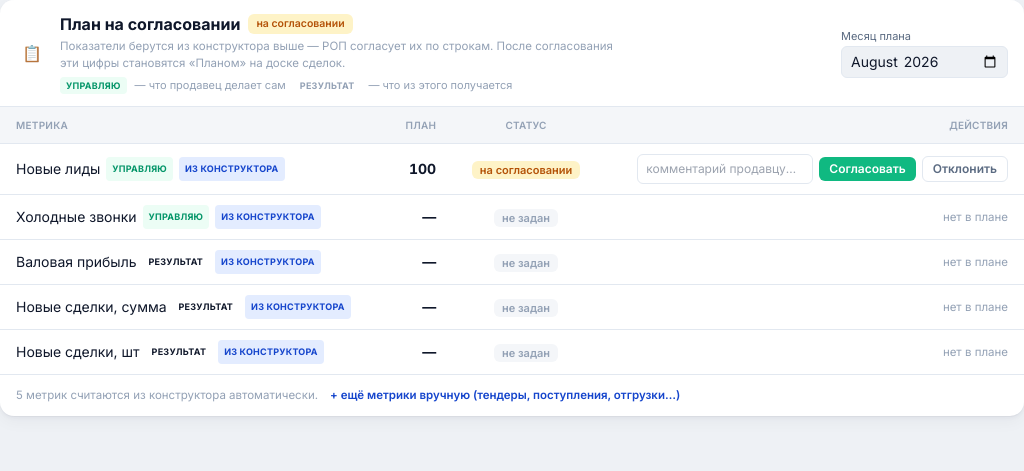
Scenario: DealPlanEditor › РОП: комментарий + «Согласовать» вызывает decidePlanComment(id, true, comment)
Type "подними до 150" into the field with placeholder "комментарий продавцу…" at (725, 169), box left=637, top=154, right=813, bottom=184
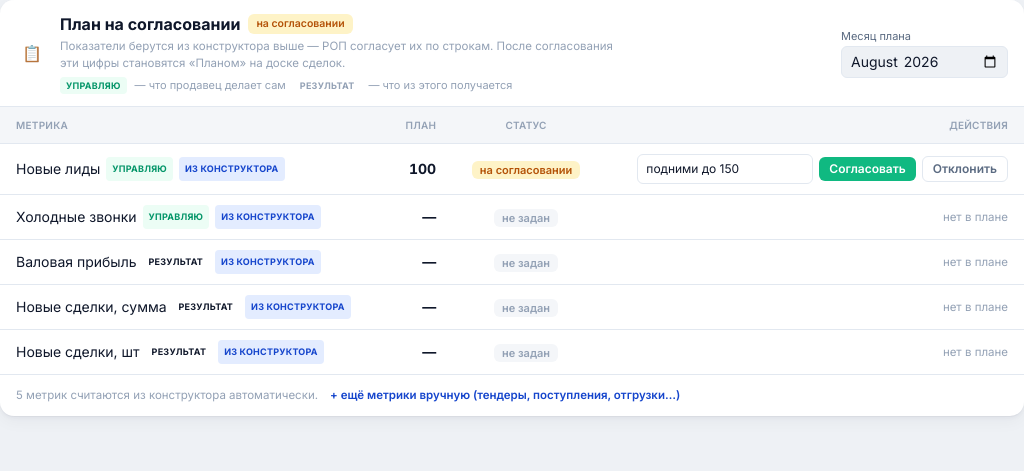
Click the button "Согласовать" at (868, 169), box left=819, top=157, right=916, bottom=181
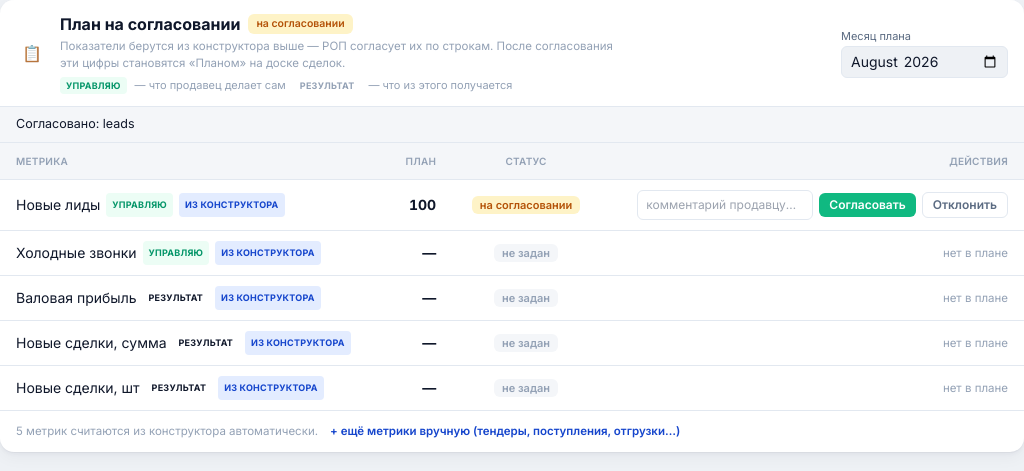
Check: the text "Согласовано: leads" is shown, box left=0, top=107, right=1023, bottom=143
